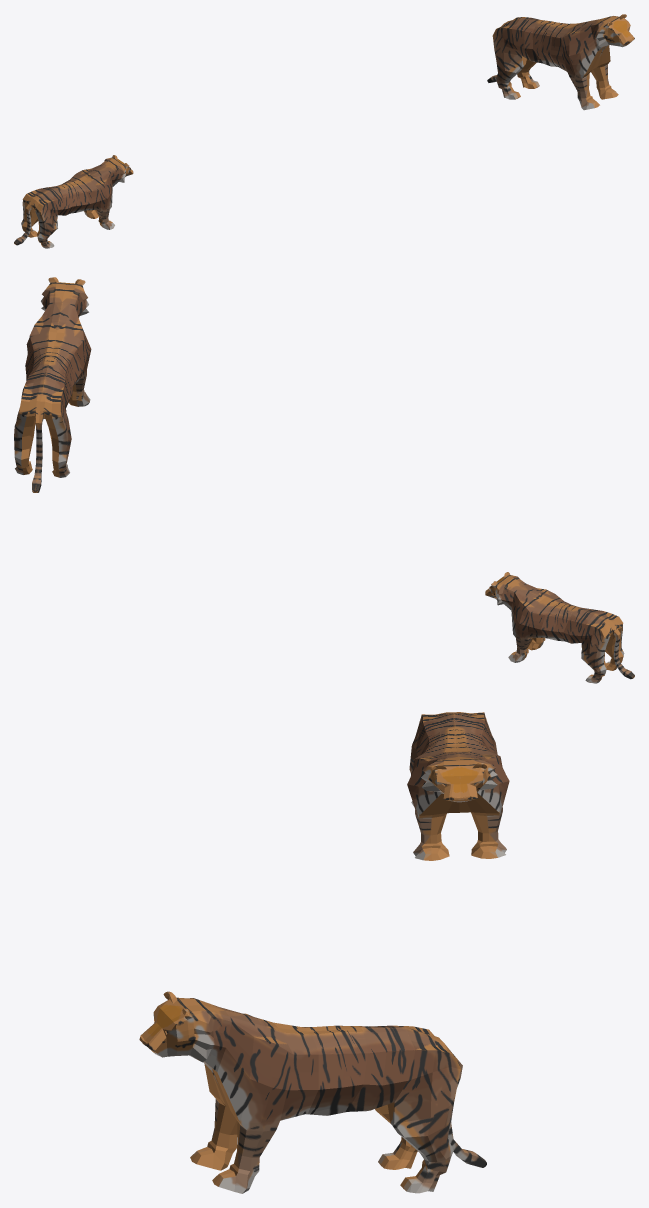
The model's file is tigers.obj.
3 views of the same model, one above another, from view 1: azimuth 30°, elevation 25°; view 2: azimuth 150°, elevation 25°; view 3: azimuth 270°, elevation 25° (orthographic). The views are drawn at different scales.
Parts seen in each view (by area): view 1: Tiger_1, Tiger_2; view 2: Tiger_1, Tiger_2; view 3: Tiger_1, Tiger_2.
Boxes of the visible parts, x1,y1,x2,y2 form: Tiger_1: (487, 14, 634, 110); Tiger_2: (14, 155, 133, 248); Tiger_1: (14, 277, 91, 492); Tiger_2: (485, 572, 634, 683); Tiger_1: (139, 991, 486, 1193); Tiger_2: (407, 712, 509, 860).
Bounding box in the file's own units: 8.09 × 2.12 × 2.37.
